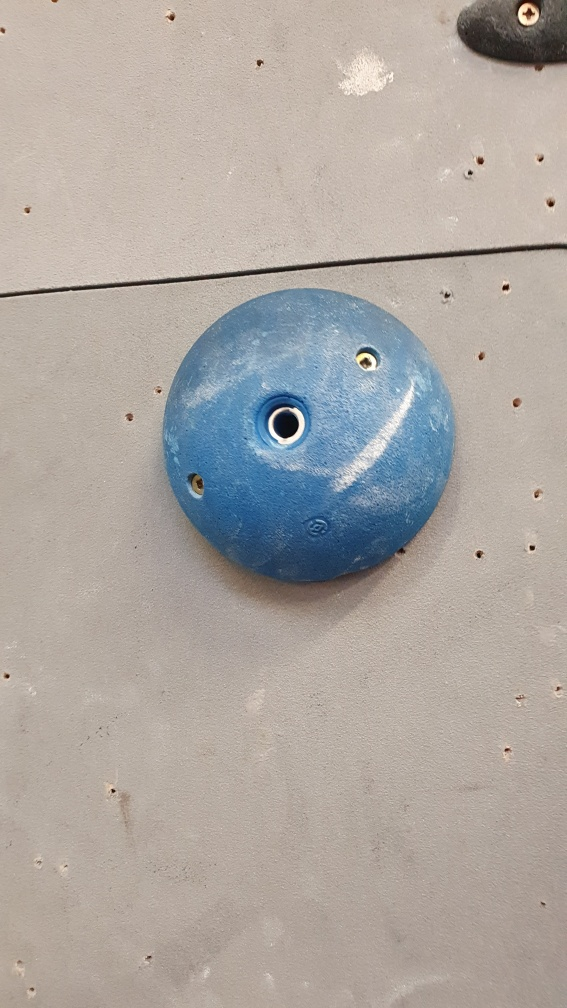Sloper: (158, 285, 462, 588)
